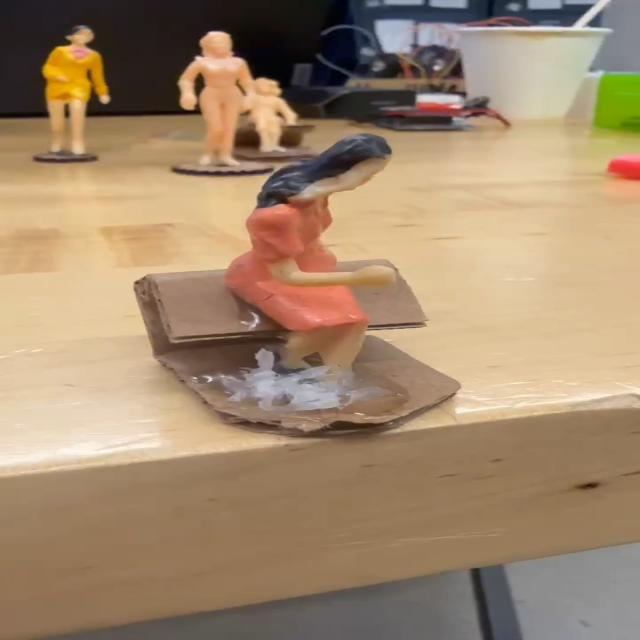Authorized: (231, 130, 404, 397)
